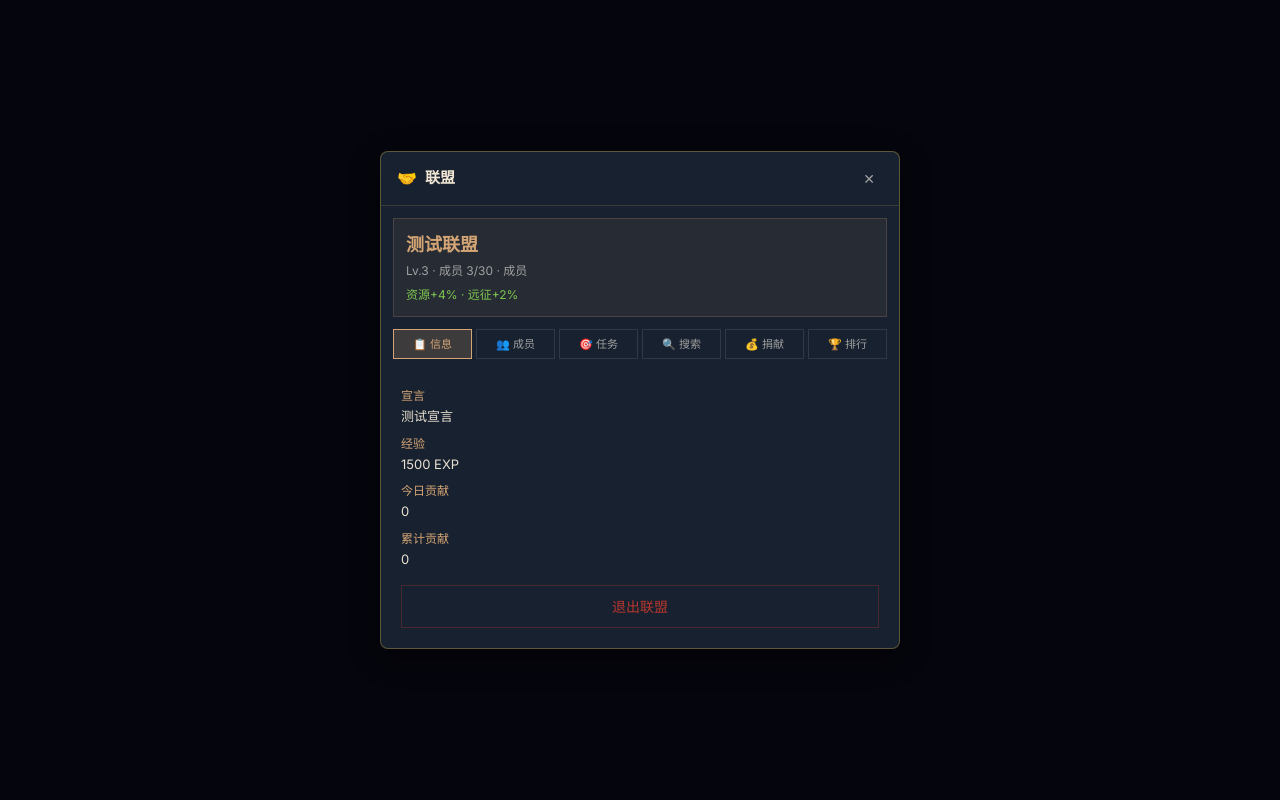
Test: F11 联盟系统 P1 修复 › P1-02 退出联盟按钮 › 点击退出联盟应弹出确认弹窗
This screenshot has width=1280, height=800.
Click the button with test id "alliance-leave-btn" at (640, 607), box x1=401 y1=585 x2=879 y2=628
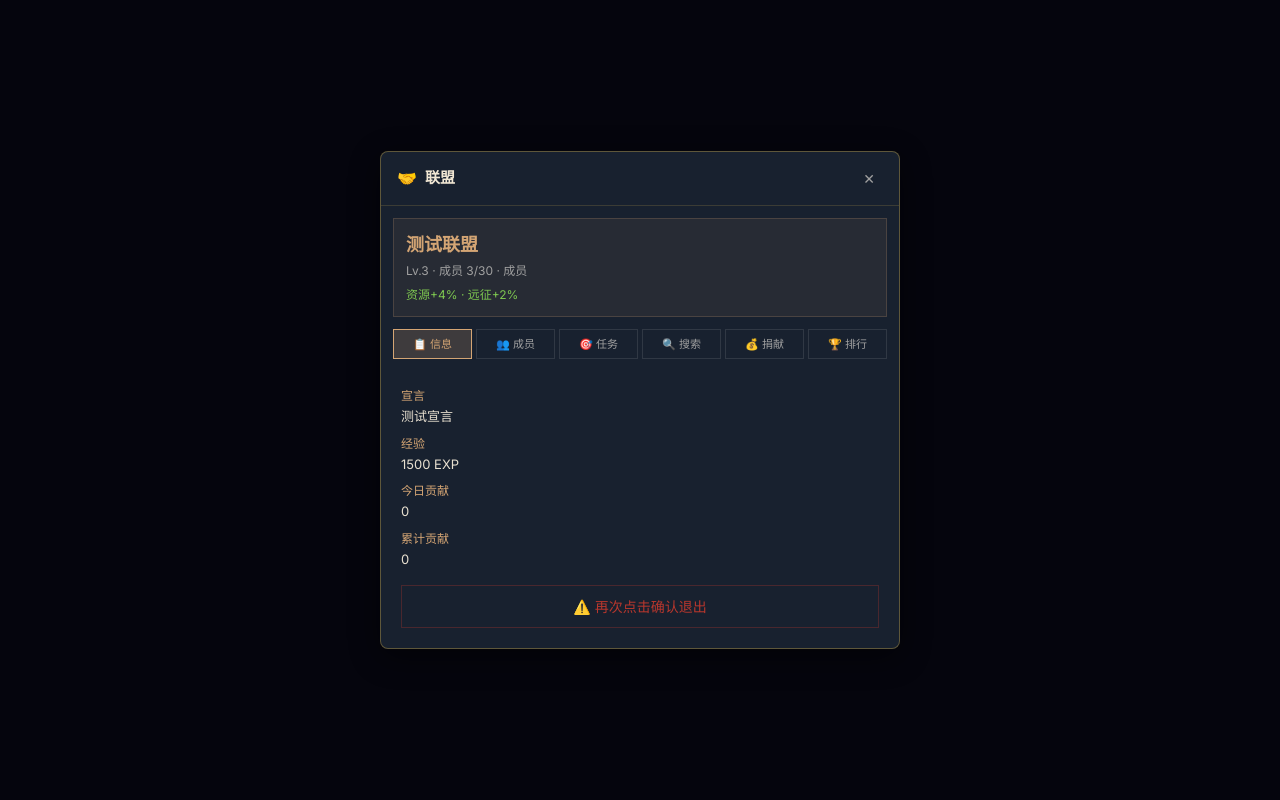
Expected: the button with test id "alliance-leave-btn" shows "确认退出", x1=401 y1=585 x2=879 y2=628
